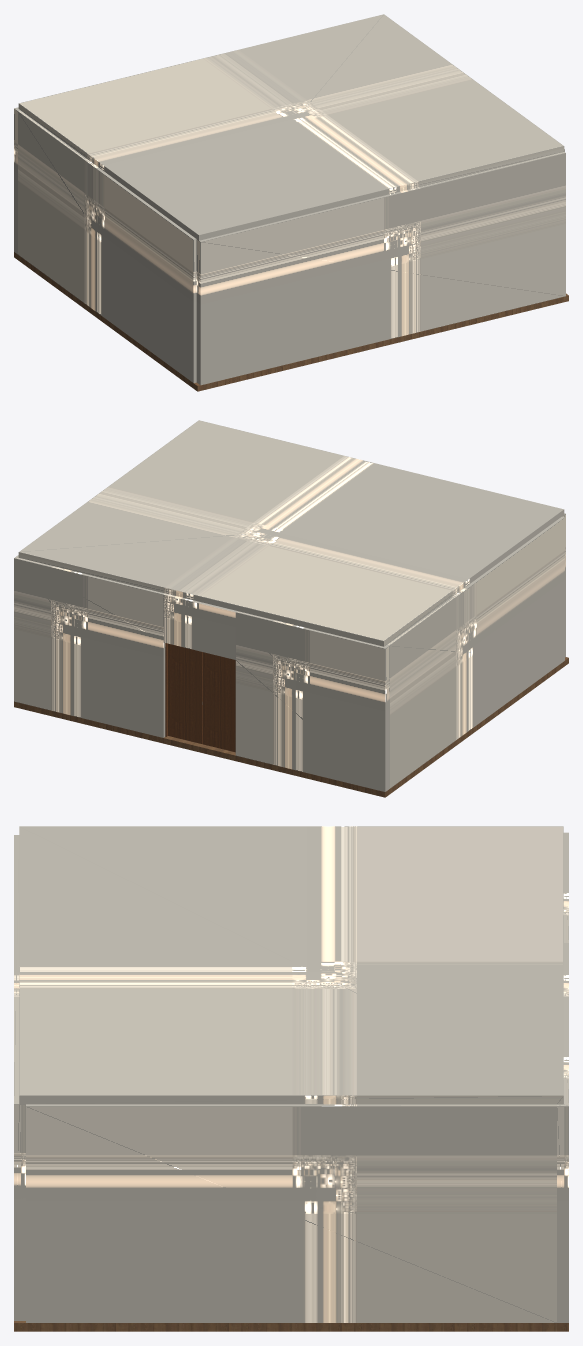
3 renders of one model, top to bottom at view 1: azimuth 30°, elevation 25°; view 2: azimuth 150°, elevation 25°; view 3: azimuth 270°, elevation 25°, orthographic. The views are drawn at different scales.
Parts seen in each view (by area): view 1: room-shell.enclosure, room-shell.floor; view 2: room-shell.enclosure, room-shell.floor, main-door.leaf-1, main-door.leaf--1; view 3: room-shell.enclosure, room-shell.floor.
Boxes of the visible parts, bbox=[...] form: room-shell.enclosure: bbox=[14, 14, 565, 385]; room-shell.floor: bbox=[14, 252, 568, 391]; room-shell.enclosure: bbox=[14, 420, 565, 791]; room-shell.floor: bbox=[14, 657, 568, 797]; main-door.leaf-1: bbox=[168, 643, 202, 743]; main-door.leaf--1: bbox=[203, 652, 235, 752]; room-shell.enclosure: bbox=[14, 826, 568, 1322]; room-shell.floor: bbox=[14, 1321, 568, 1331].
Bounding box in the file's own units: 9.76 × 3.88 × 8.36.
Materials: 14 (9 with a texture image).
